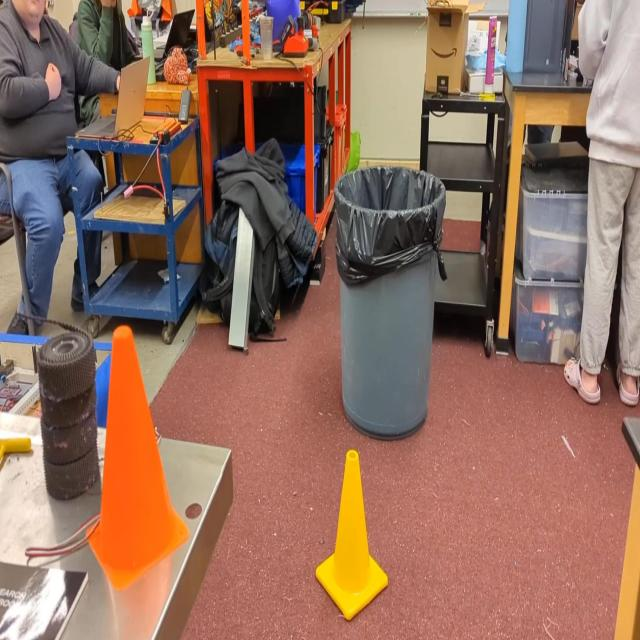frc_cone: (315, 450, 388, 620)
